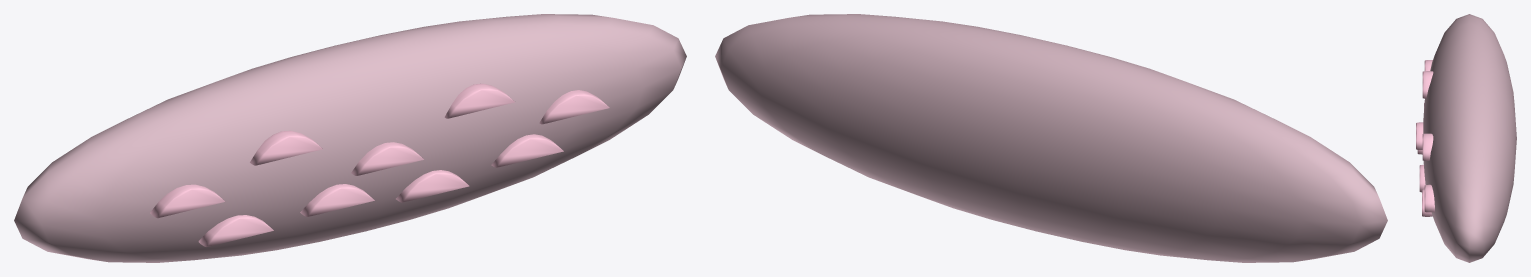
Rendered from decor_5_candy.glb.
3 renders of one model, left to right at view 1: azimuth 30°, elevation 25°; view 2: azimuth 150°, elevation 25°; view 3: azimuth 270°, elevation 25°, orthographic. The views are drawn at different scales.
Visible parts, largest first — view 1: decor_5_candy; view 2: decor_5_candy; view 3: decor_5_candy.
Part boxes in pixels (bbox=[...]): decor_5_candy: bbox=[14, 14, 686, 262]; decor_5_candy: bbox=[715, 14, 1387, 262]; decor_5_candy: bbox=[1416, 14, 1516, 262].
Bounding box in the file's own units: 14 × 3.6 × 2.73.
